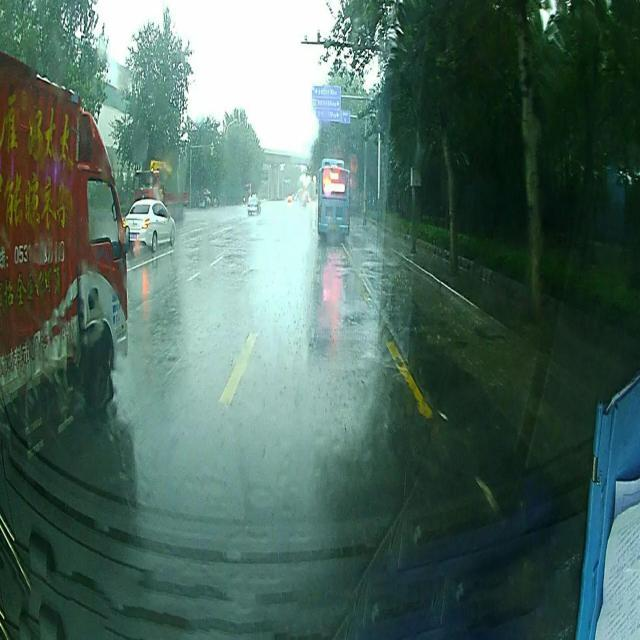car: (0, 50, 128, 446), (126, 188, 177, 252), (245, 190, 262, 220)
